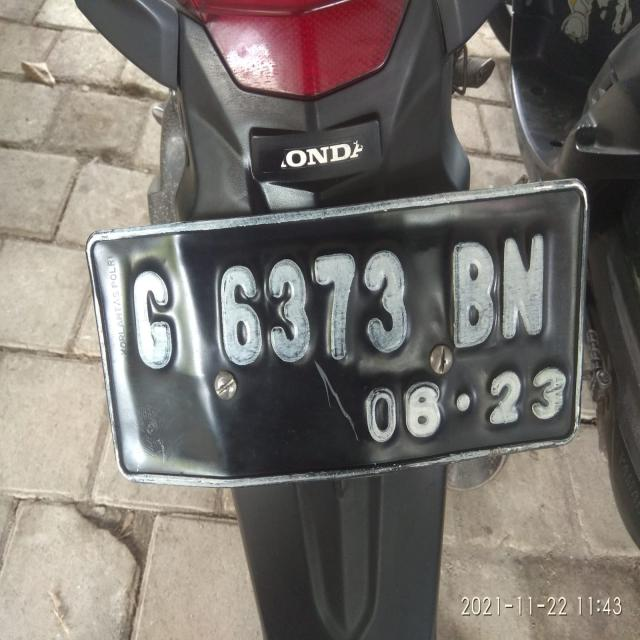plate: (95, 204, 587, 470)
